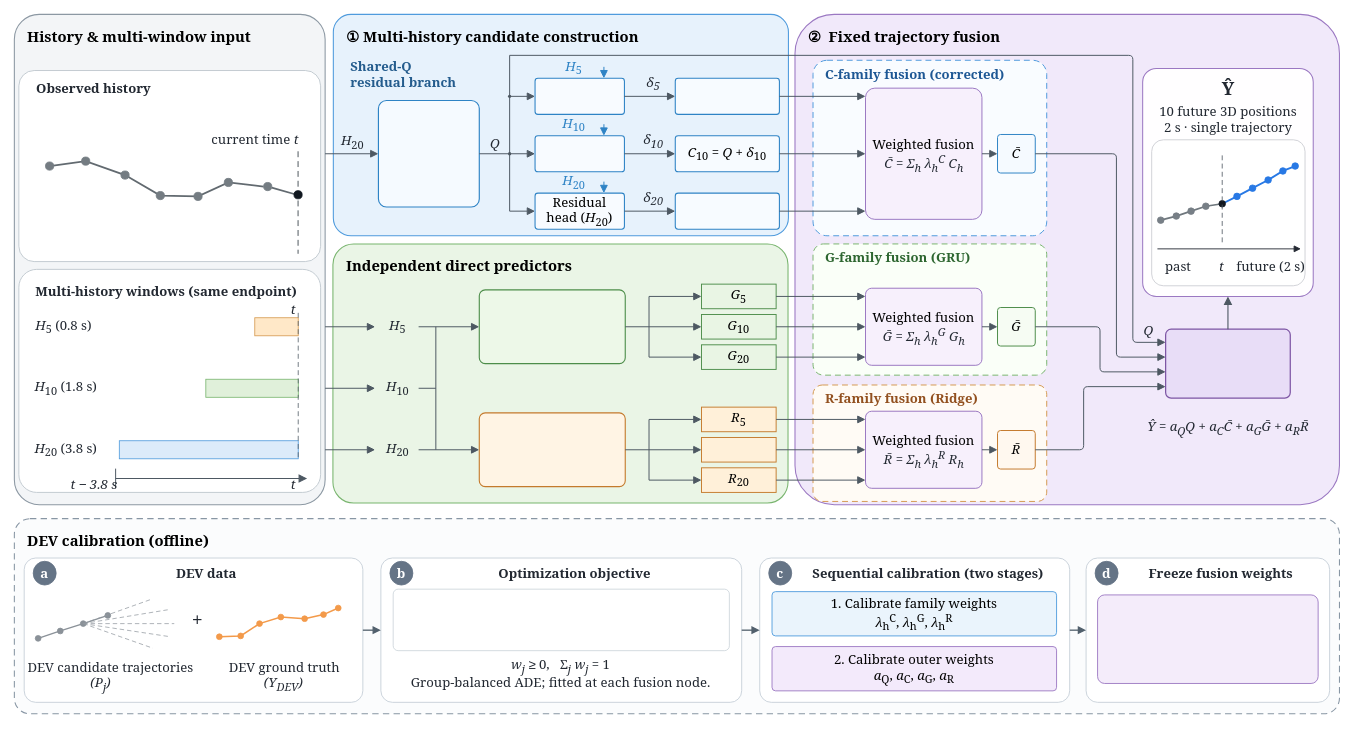
Image size: 1355x729. Some labels were removed from this diagram. The centre of each missing label's shape, as x and y in pixels:
3 independent GRUs H h → G h: the point at 551,326
3 independent Ridge models H h → R h: the point at 551,449
C 20 = Q + δ 20: the point at 727,210
C 5 = Q + δ 5: the point at 727,96
Outer fusion (fixed weights): the point at 1228,363
Q 20 Shared predictor (QCNet-based) runs once: the point at 428,153
R 10: the point at 738,449
Residual head ( H 10 ): the point at 579,153
Residual head ( H 5 ): the point at 579,96
Use fixed weights during inference: the point at 1207,639
w ⋆ = arg min w MacroADE DEV (Σ j w j P j , Y DEV ): the point at 560,619
